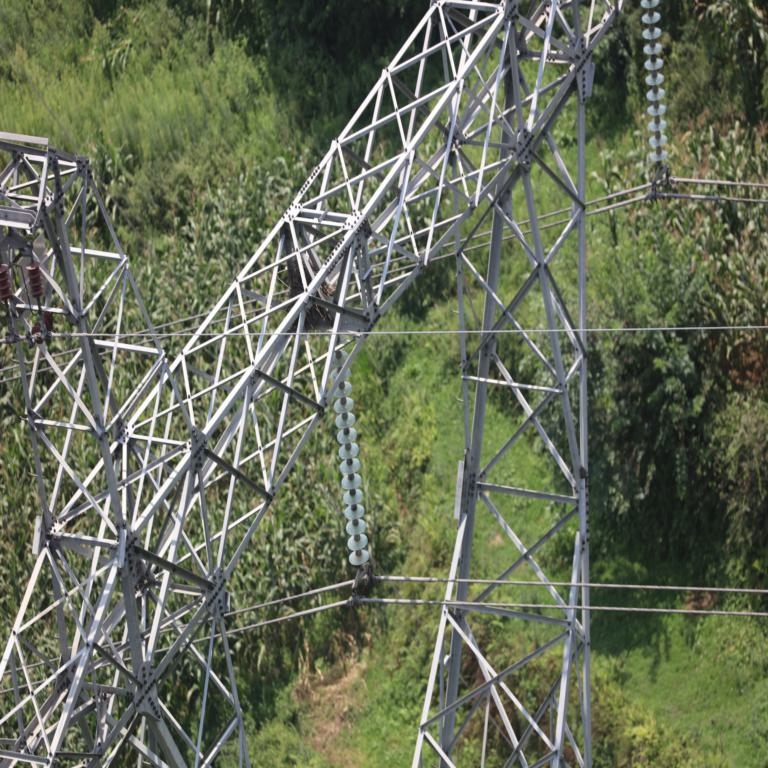nest: (285, 273, 339, 325)
